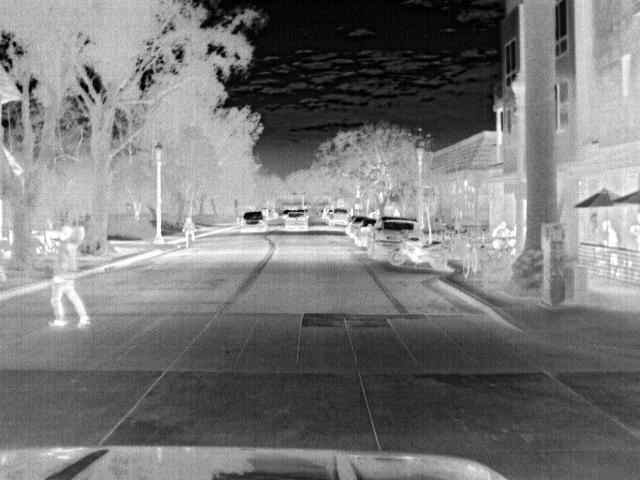car: (367, 216, 420, 262), (239, 211, 269, 231), (356, 220, 377, 248), (350, 214, 369, 238), (329, 206, 352, 225), (285, 212, 309, 229)
person: (48, 222, 93, 330), (600, 218, 618, 248), (182, 214, 197, 244), (491, 221, 509, 238)
